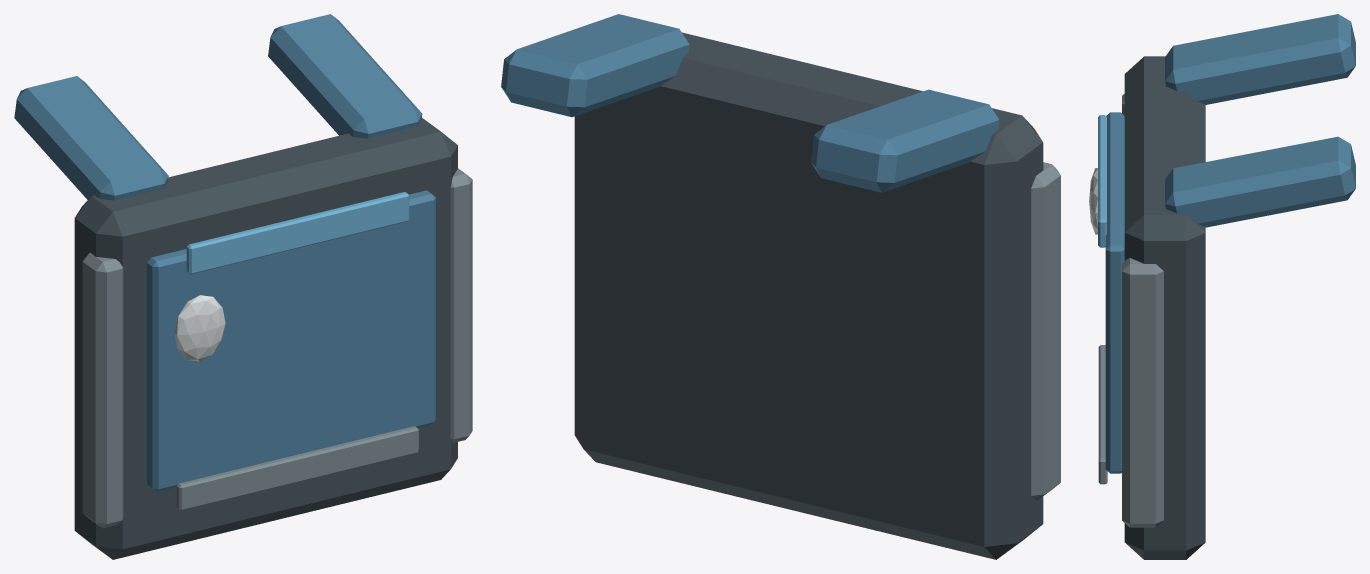
File: PoliceBallisticVest.glb
3 renders of one model, left to right at view 1: azimuth 30°, elevation 25°; view 2: azimuth 150°, elevation 25°; view 3: azimuth 270°, elevation 25°, orthographic. The views are drawn at different scales.
Parts seen in each view (by area): view 1: StaticVisual; view 2: StaticVisual; view 3: StaticVisual.
Boxes of the visible parts, x1,y1,x2,y2 form: StaticVisual: (14, 14, 472, 559); StaticVisual: (501, 14, 1060, 559); StaticVisual: (1089, 14, 1355, 559).
Bounding box in the file's own units: 0.77 × 0.7755 × 0.4766.
